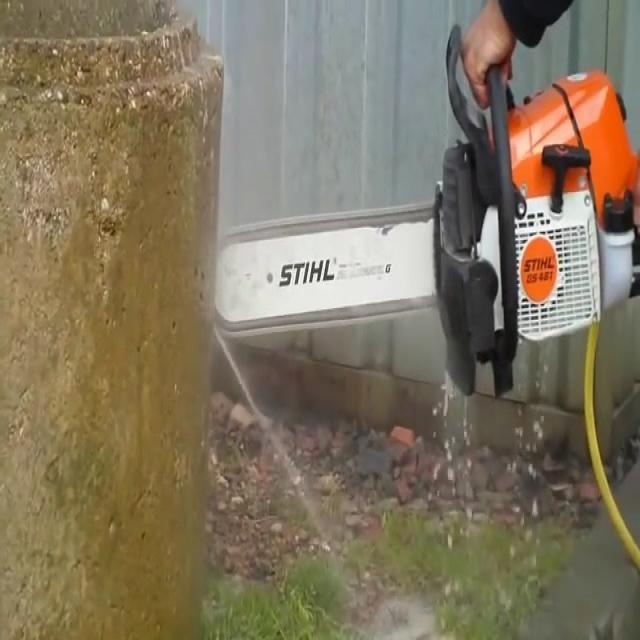Chainsaw: (195, 0, 634, 392)
